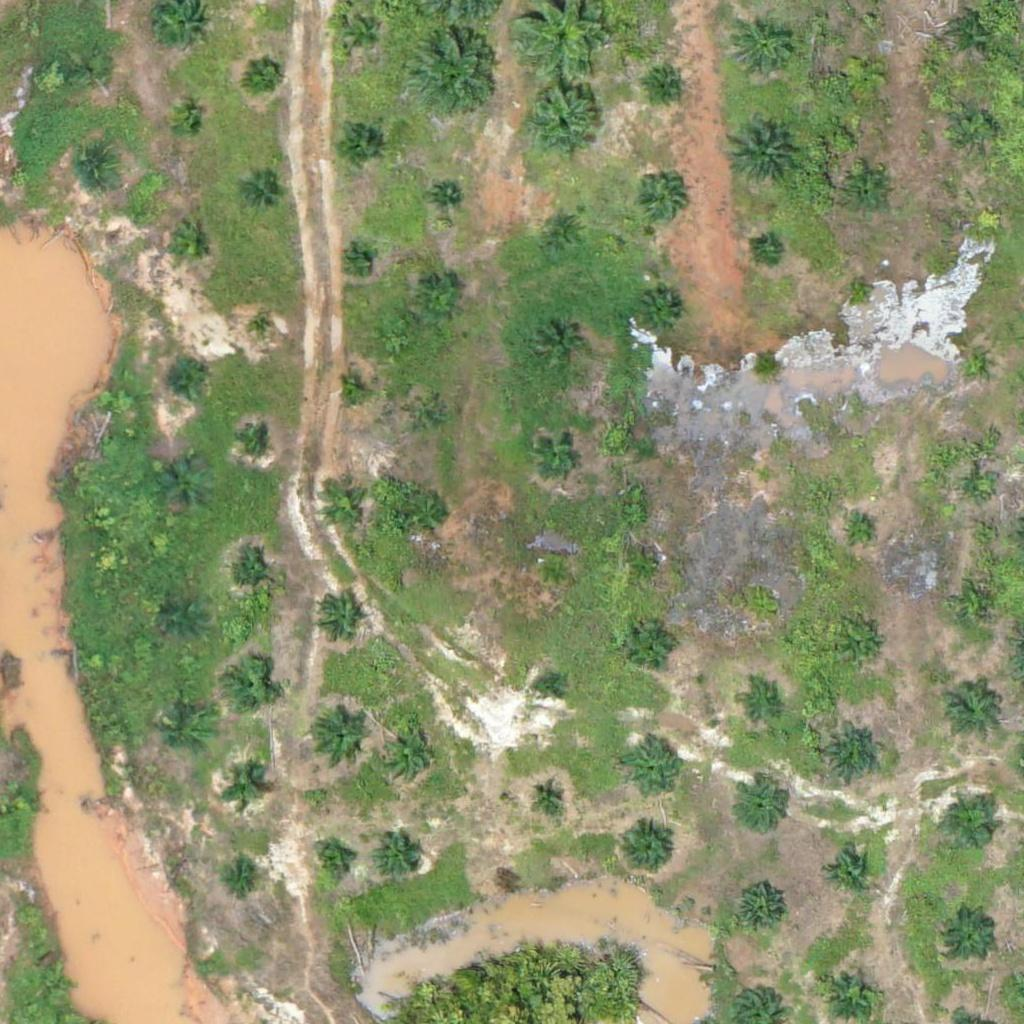Kelapa_Sawit: (519, 79, 607, 167), (410, 28, 498, 116), (725, 115, 800, 191), (937, 676, 1000, 739), (822, 722, 885, 785), (376, 723, 439, 786), (733, 17, 795, 80), (616, 819, 678, 882), (620, 737, 682, 800), (310, 705, 372, 768), (406, 488, 456, 539), (736, 781, 786, 832), (733, 882, 783, 933), (824, 846, 874, 897), (626, 618, 676, 669), (950, 8, 1000, 59), (951, 102, 1001, 153), (839, 48, 889, 99), (319, 482, 369, 533), (165, 221, 215, 272), (948, 801, 998, 851), (944, 911, 994, 961), (845, 169, 895, 219), (227, 553, 277, 603), (225, 662, 275, 712), (314, 595, 364, 645), (374, 831, 424, 881), (634, 175, 684, 225), (637, 289, 687, 339), (534, 428, 584, 478), (534, 321, 584, 371), (541, 207, 591, 257), (414, 277, 464, 327), (333, 117, 383, 167), (161, 461, 211, 511), (336, 8, 386, 58), (163, 712, 213, 762), (739, 687, 777, 725), (34, 966, 72, 1004), (224, 767, 262, 805), (225, 858, 263, 896), (312, 841, 350, 879), (165, 362, 203, 400), (844, 630, 881, 668), (531, 778, 568, 816), (2, 780, 39, 818), (535, 554, 573, 591), (409, 399, 447, 436), (168, 106, 206, 143), (165, 600, 202, 638), (75, 52, 113, 89), (248, 54, 285, 92), (628, 548, 665, 586), (244, 178, 281, 215), (76, 150, 113, 187), (754, 238, 779, 264), (966, 594, 991, 620), (959, 349, 984, 374), (964, 477, 989, 502), (847, 520, 872, 545), (847, 276, 872, 301), (537, 675, 562, 700), (345, 248, 370, 273), (338, 378, 363, 403), (250, 317, 275, 342), (244, 429, 269, 454), (655, 74, 680, 99), (753, 465, 778, 490), (433, 184, 457, 209)
